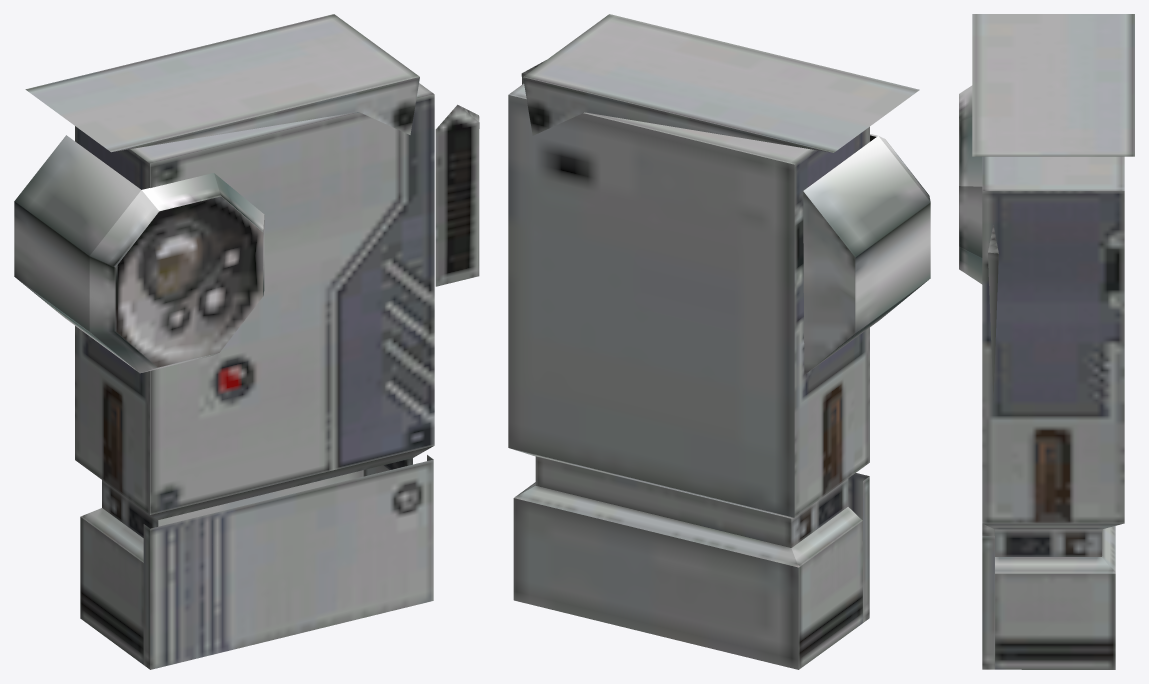
File: thm_prp_camera_l1.fbx
3 views of the same model, side by side, from view 1: azimuth 30°, elevation 25°; view 2: azimuth 150°, elevation 25°; view 3: azimuth 270°, elevation 25° (orthographic). The views are drawn at different scales.
Visible parts, largest first — view 1: mesh_node; view 2: mesh_node; view 3: mesh_node.
Boxes of the visible parts, x1,y1,x2,y2 form: mesh_node: [14, 14, 479, 669]; mesh_node: [508, 14, 930, 669]; mesh_node: [959, 14, 1134, 669].
Size of the model in its own units: 0.2104 by 0.2689 by 0.0849.
